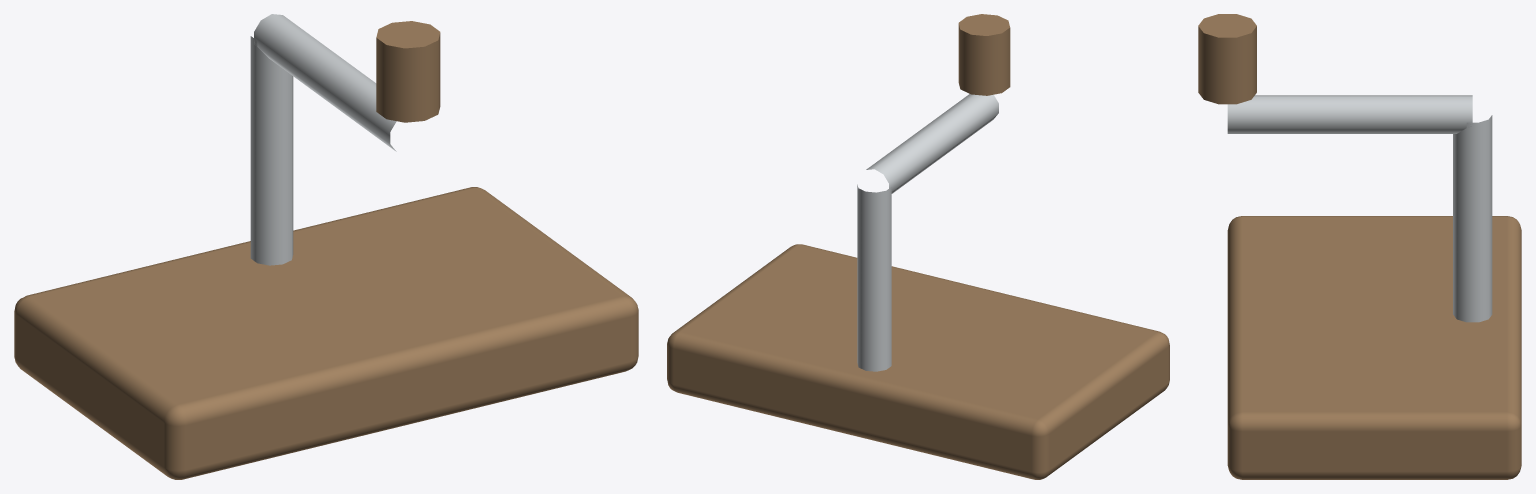
File: marquetry-and-veneer-inlay-workshop-veneer-packet-clam-67b355ee__39091.glb
3 renders of one model, left to right at view 1: azimuth 30°, elevation 25°; view 2: azimuth 150°, elevation 25°; view 3: azimuth 270°, elevation 25°, orthographic. The views are drawn at different scales.
Parts seen in each view (by area): view 1: veneer-packet-clamp; view 2: veneer-packet-clamp; view 3: veneer-packet-clamp.
Boxes of the visible parts, x1,y1,x2,y2 form: veneer-packet-clamp: (14,14,638,479); veneer-packet-clamp: (667,14,1169,479); veneer-packet-clamp: (1198,14,1521,479).
Bounding box in the file's own units: 0.2 × 0.16 × 0.132.
